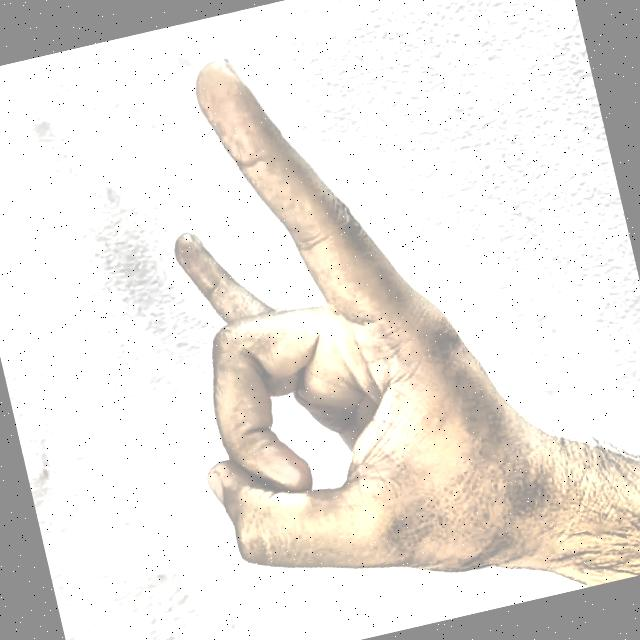Cha: (43, 0, 609, 640)
